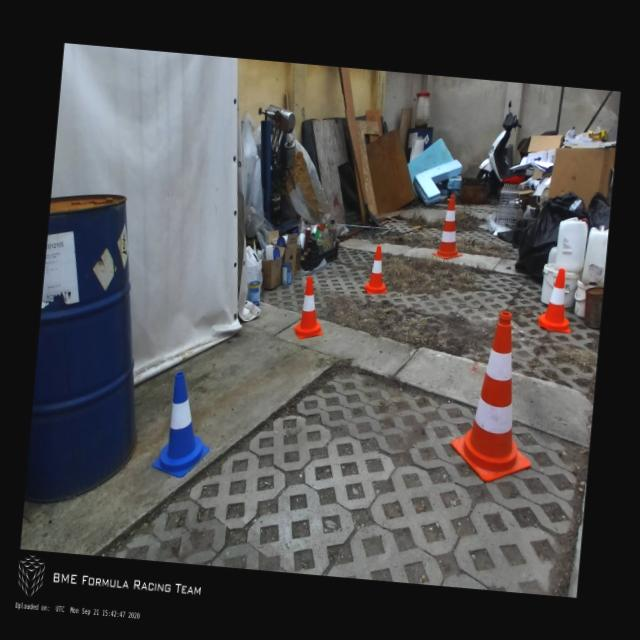blue_cone: (151, 370, 213, 480)
large_orange_cone: (448, 307, 541, 483), (431, 194, 467, 260)
orange_cone: (535, 266, 574, 333), (292, 276, 328, 340), (364, 243, 389, 294)
